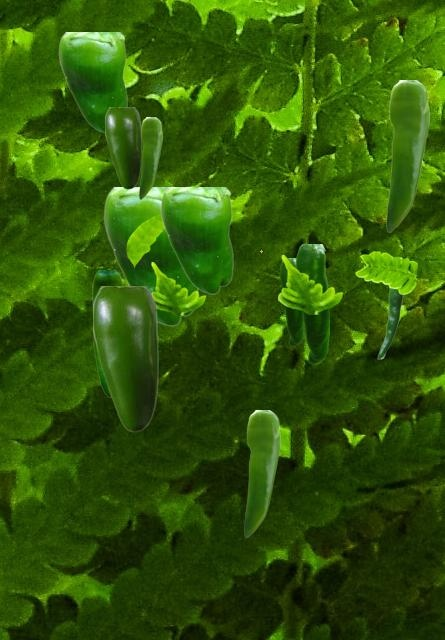green_chili: (103, 187, 197, 325), (93, 286, 157, 431), (160, 187, 232, 293), (58, 32, 126, 132), (386, 80, 428, 231), (244, 410, 279, 536), (296, 244, 328, 363), (92, 270, 121, 396), (105, 107, 140, 188), (280, 258, 303, 345), (139, 117, 161, 198), (377, 289, 402, 358)
